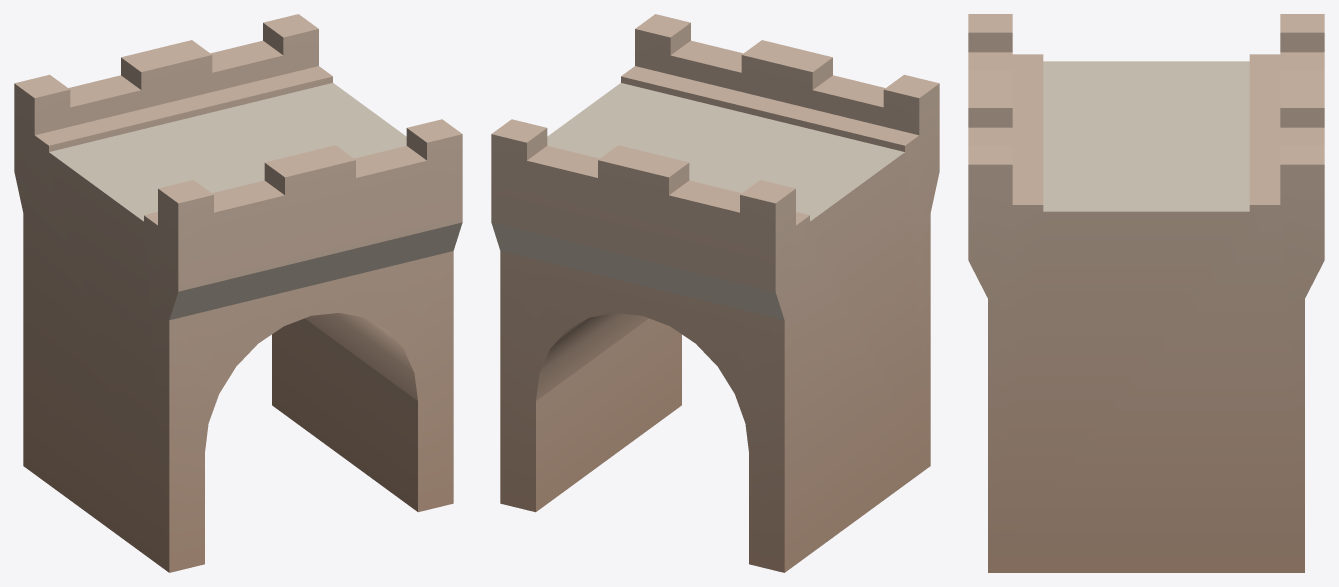
The model's file is bridge-straight.glb.
3 views of the same model, side by side, from view 1: azimuth 30°, elevation 25°; view 2: azimuth 150°, elevation 25°; view 3: azimuth 270°, elevation 25° (orthographic). The views are drawn at different scales.
Visible parts, largest first — view 1: bridge-straight; view 2: bridge-straight; view 3: bridge-straight.
Boxes of the visible parts, box(x1,y1,x2,y2) form: bridge-straight: box(14, 14, 462, 572); bridge-straight: box(491, 14, 939, 572); bridge-straight: box(968, 14, 1324, 572).
Size of the model in its own units: 0.93 by 1.18 by 0.93.
